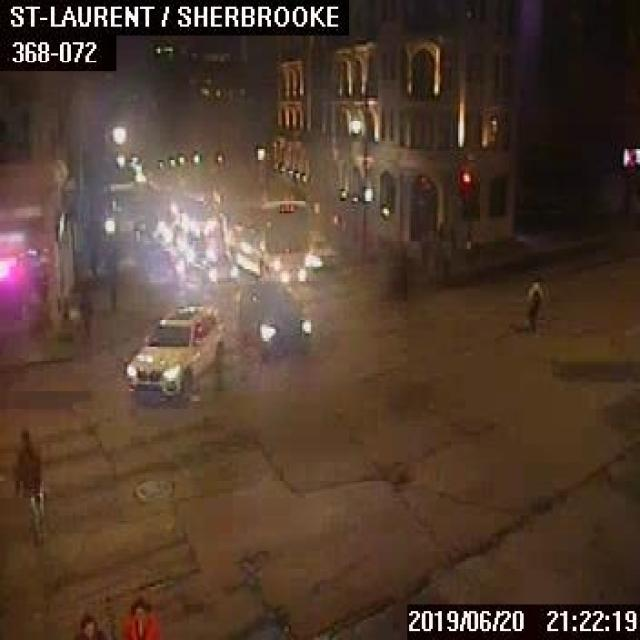bus: (226, 197, 306, 280)
pedestrian: (12, 425, 46, 545), (114, 596, 164, 638), (69, 606, 107, 638), (522, 277, 542, 329)
vehicle: (122, 296, 227, 396), (236, 276, 310, 355), (141, 250, 174, 284)
